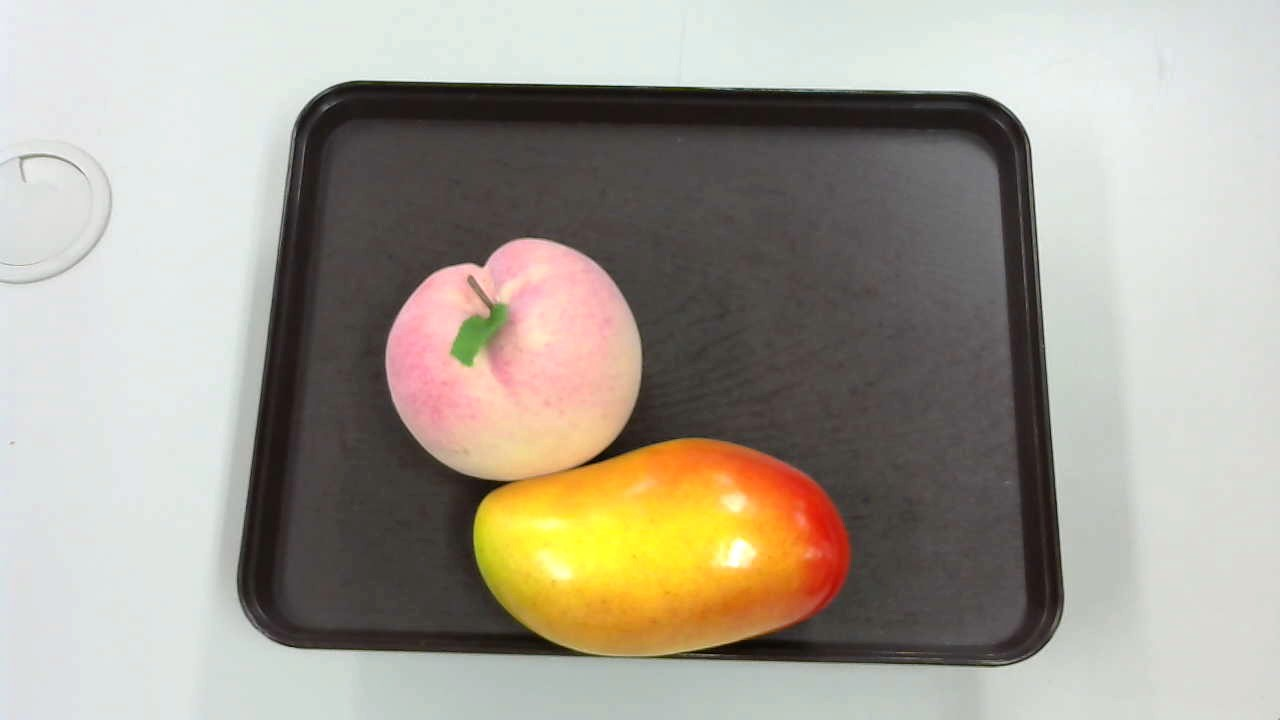peach: (386, 234, 638, 477)
red mango: (470, 435, 856, 651)
